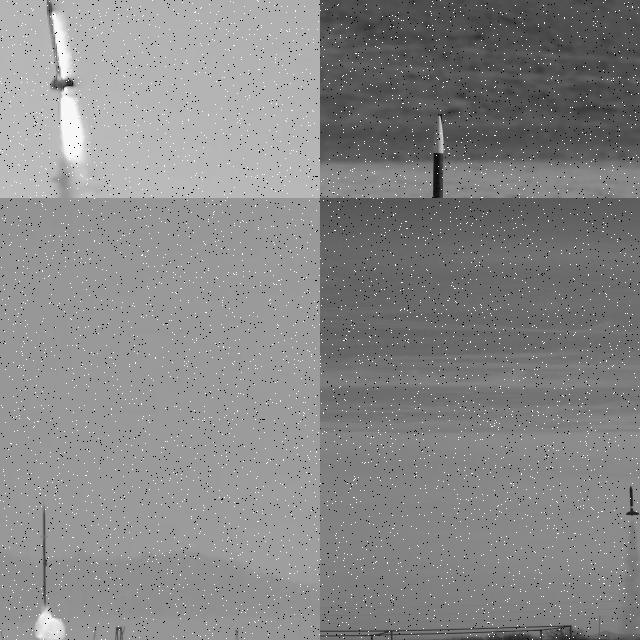Rocket: (45, 0, 73, 89), (427, 112, 454, 198), (42, 504, 48, 629), (624, 485, 640, 516)
